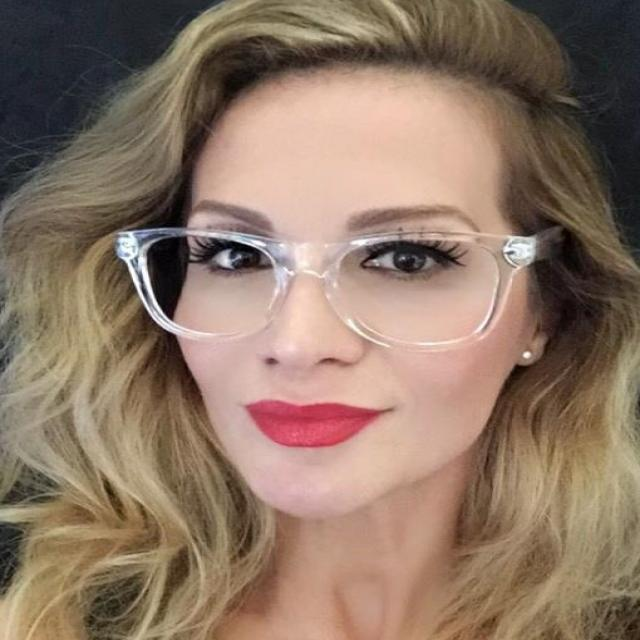Glasses: (111, 216, 571, 355)
